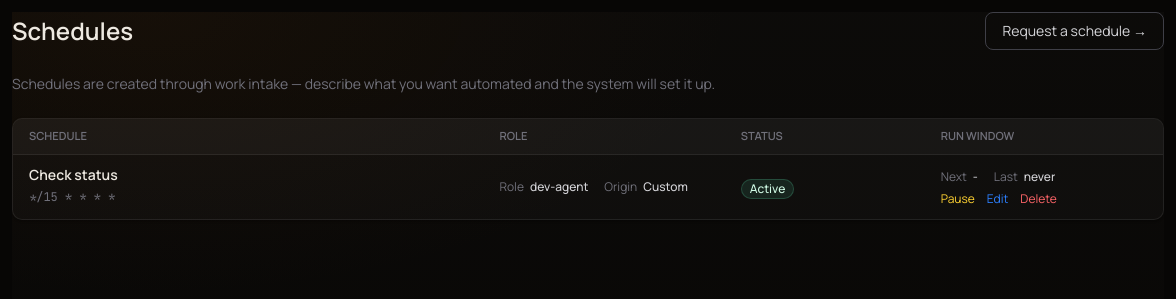
Test: SchedulesPage › keeps the schedule visible when deletion fails
Expected: the text "Check status" is shown, [29, 165, 118, 184]
Step 1. Click the button "Delete" → (1039,199), box [1020, 191, 1057, 207]
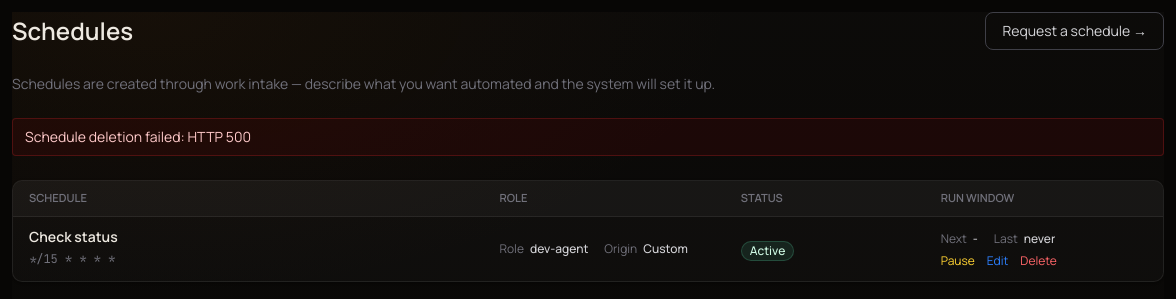
Expected: the text "Check status" is shown, [29, 227, 118, 246]
Expected: the text "Schedule deletion failed: HTTP 500" is shown, [12, 118, 1164, 156]
